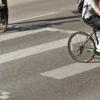Bicycle: (59, 16, 100, 76)
